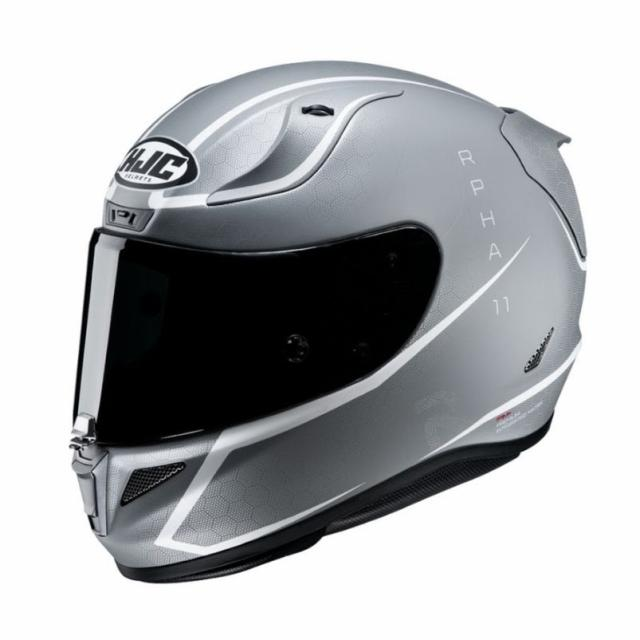Helm: (63, 52, 590, 590)
